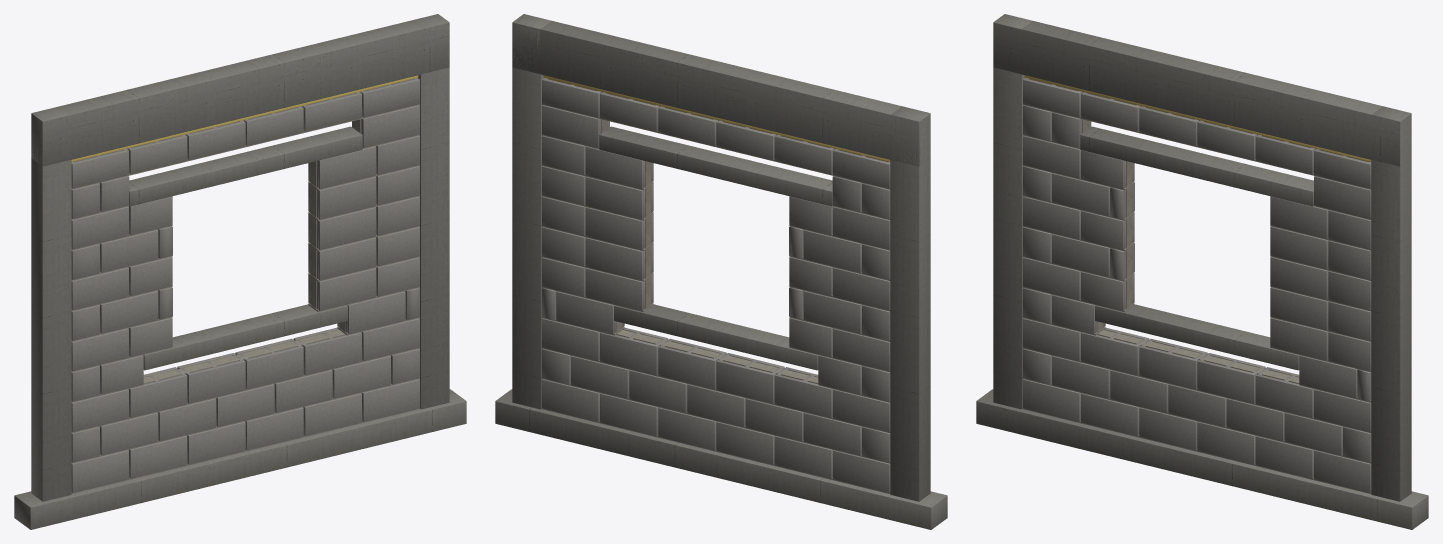
File: KIT-ALV-02.glb
3 views of the same model, side by side, from view 1: azimuth 30°, elevation 25°; view 2: azimuth 150°, elevation 25°; view 3: azimuth 330°, elevation 25° (orthographic).
Visible parts, largest first — view 1: KIT-ALV-02_viga, KIT-ALV-02_pilar-1, KIT-ALV-02_base, KIT-ALV-02_pilar1, KIT-ALV-02_verga, KIT-ALV-02_contraverga, KIT-ALV-02, KIT-ALV-02_u16, KIT-ALV-02_u15, KIT-ALV-02_u17, KIT-ALV-02_u14, KIT-ALV-02_u30 (+52 smaller); view 2: KIT-ALV-02_viga, KIT-ALV-02_pilar-1, KIT-ALV-02_base, KIT-ALV-02_pilar1, KIT-ALV-02_verga, KIT-ALV-02_contraverga, KIT-ALV-02, KIT-ALV-02_u16, KIT-ALV-02_u15, KIT-ALV-02_u17, KIT-ALV-02_u14, KIT-ALV-02_u30 (+52 smaller); view 3: KIT-ALV-02_viga, KIT-ALV-02_pilar1, KIT-ALV-02_base, KIT-ALV-02_pilar-1, KIT-ALV-02_verga, KIT-ALV-02_contraverga, KIT-ALV-02_u15, KIT-ALV-02_u16, KIT-ALV-02_u14, KIT-ALV-02_u17, KIT-ALV-02_u3, KIT-ALV-02_u7 (+54 smaller).
Boxes of the visible parts, x1,y1,x2,y2 form: KIT-ALV-02_viga: (31,21,449,166); KIT-ALV-02_pilar-1: (31,106,71,501); KIT-ALV-02_base: (14,389,466,529); KIT-ALV-02_pilar1: (410,14,449,409); KIT-ALV-02_verga: (129,126,362,206); KIT-ALV-02_contraverga: (143,304,347,370); KIT-ALV-02: (308,119,419,335); KIT-ALV-02_u16: (235,338,303,389); KIT-ALV-02_u15: (177,353,245,403); KIT-ALV-02_u17: (293,327,361,375); KIT-ALV-02_u14: (128,367,187,417); KIT-ALV-02_u30: (308,237,376,280); KIT-ALV-02_viga: (512,21,930,166); KIT-ALV-02_pilar-1: (890,106,930,501); KIT-ALV-02_base: (495,389,947,529); KIT-ALV-02_pilar1: (512,14,551,409); KIT-ALV-02_verga: (599,126,832,206); KIT-ALV-02_contraverga: (614,304,818,370); KIT-ALV-02: (542,119,653,335); KIT-ALV-02_u16: (658,338,726,389); KIT-ALV-02_u15: (716,353,784,403); KIT-ALV-02_u17: (600,327,668,375); KIT-ALV-02_u14: (774,367,833,417); KIT-ALV-02_u30: (585,237,653,280); KIT-ALV-02_viga: (993,21,1399,166); KIT-ALV-02_pilar1: (1371,106,1411,501); KIT-ALV-02_base: (976,389,1428,529); KIT-ALV-02_pilar-1: (993,14,1032,409); KIT-ALV-02_verga: (1080,126,1313,206); KIT-ALV-02_contraverga: (1095,304,1299,370); KIT-ALV-02_u15: (1139,338,1207,389); KIT-ALV-02_u16: (1197,353,1265,403); KIT-ALV-02_u14: (1081,327,1149,375); KIT-ALV-02_u17: (1255,367,1314,417); KIT-ALV-02_u3: (1197,421,1256,464); KIT-ALV-02_u7: (1052,356,1110,398).
Size of the model in its own units: 3 by 2.65 by 0.2.
Materials: 4 (4 with a texture image).
